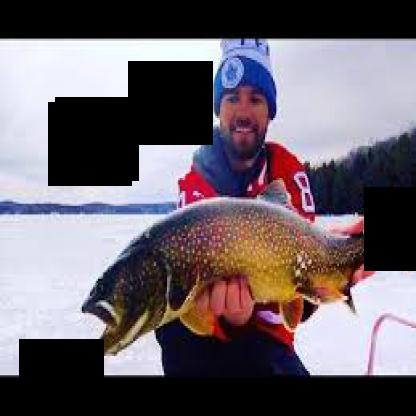fish: (76, 176, 410, 356)
